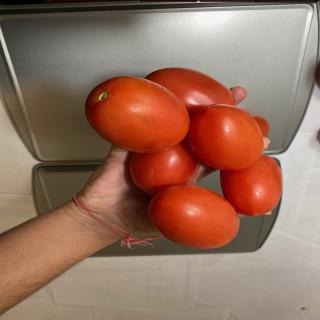Chilli: (84, 67, 284, 249)
Tomato: (84, 76, 190, 153), (147, 184, 240, 249), (187, 104, 264, 171), (144, 67, 237, 119), (129, 140, 200, 196), (220, 154, 283, 216)
